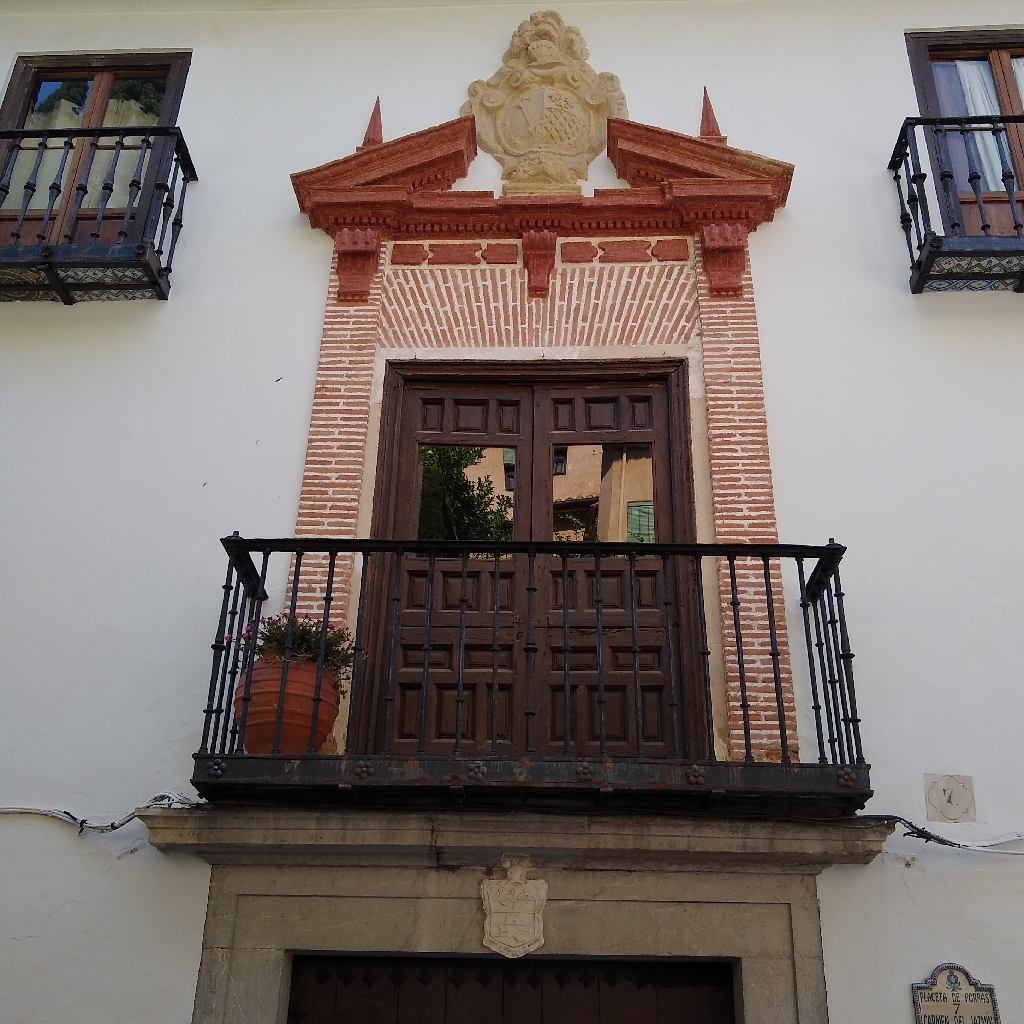fronton-partido: (286, 112, 797, 201)
vano-adintelado: (333, 331, 722, 763)
